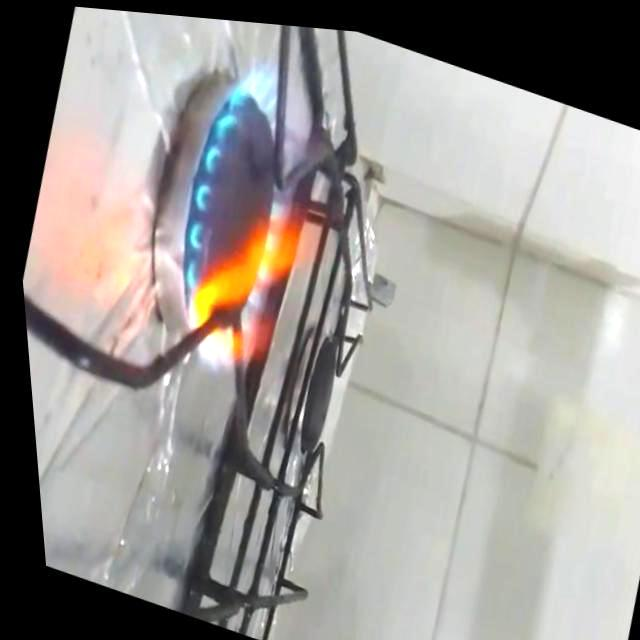fire: (138, 36, 380, 408)
